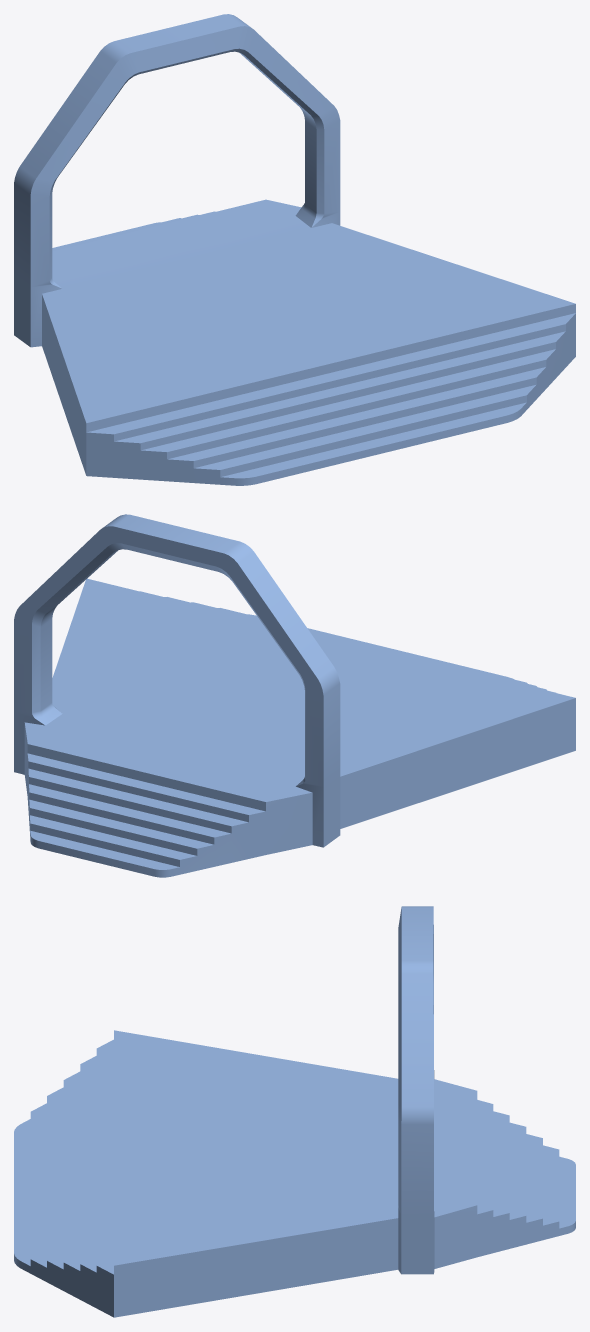
The model's file is Mp_Entrance_Stairs.fbx.
The picture shows the model from 3 angles, top to bottom: view 1: azimuth 30°, elevation 25°; view 2: azimuth 150°, elevation 25°; view 3: azimuth 270°, elevation 25°; orthographic projection.
Parts seen in each view (by area): view 1: Mp_Entrance_Stairs; view 2: Mp_Entrance_Stairs; view 3: Mp_Entrance_Stairs.
Part boxes in pixels (left/top/right/bottom): Mp_Entrance_Stairs: left=14, top=14, right=575, bottom=485; Mp_Entrance_Stairs: left=14, top=514, right=575, bottom=877; Mp_Entrance_Stairs: left=14, top=906, right=575, bottom=1317.
Bounding box in the file's own units: 748 × 394 × 754.
